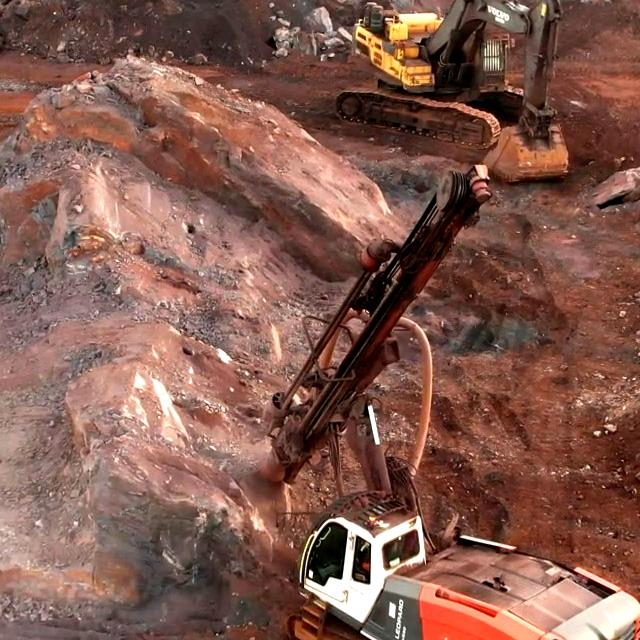Blast rig: (300, 525, 610, 640)
Excavator: (353, 1, 503, 147)
